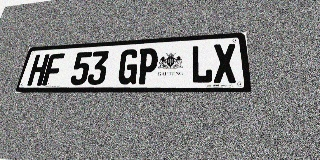3: (87, 51, 109, 85)
5: (70, 52, 93, 85)
F: (42, 53, 65, 86)
G: (117, 49, 139, 85)
H: (27, 54, 50, 86)
L: (190, 45, 213, 84)
P: (136, 48, 159, 84)
X: (213, 43, 238, 83)
